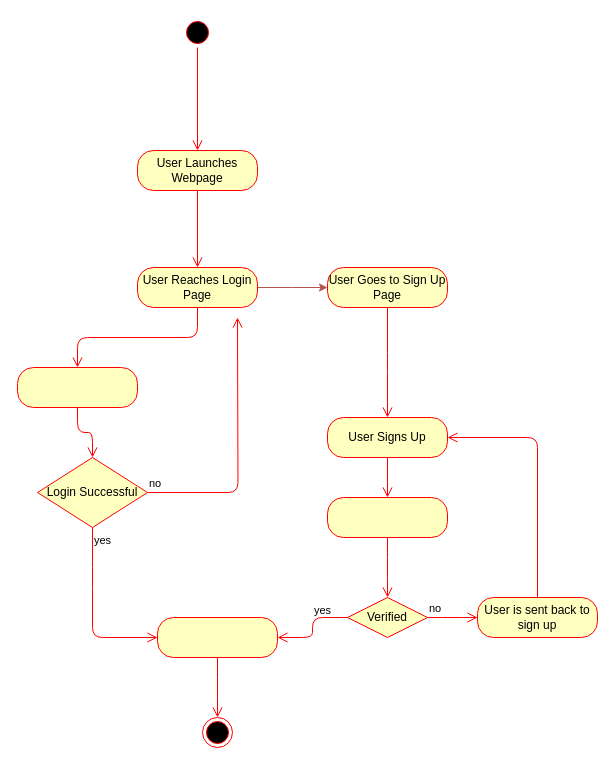
Image size: 615x765. Some labels were removed from this diagram. The box of each missing label's shape, as (x1, y1, x2, y2) in pixels:
User Logs In: (16, 366, 138, 408)
User reaches dashboard: (156, 616, 278, 658)
Verify Signup: (326, 496, 448, 538)
